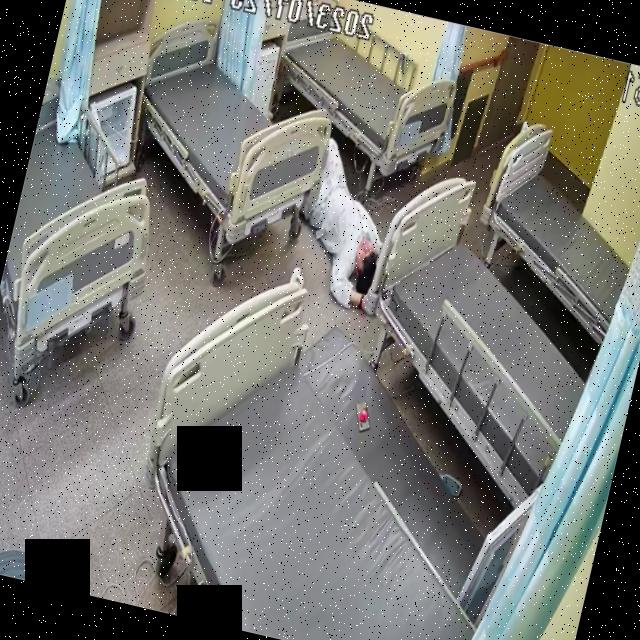bed: (119, 269, 541, 640), (334, 168, 628, 507), (0, 74, 180, 390), (118, 18, 350, 238), (459, 115, 640, 343), (261, 3, 462, 183)
fall: (281, 138, 404, 314)
patient: (281, 136, 405, 312)
